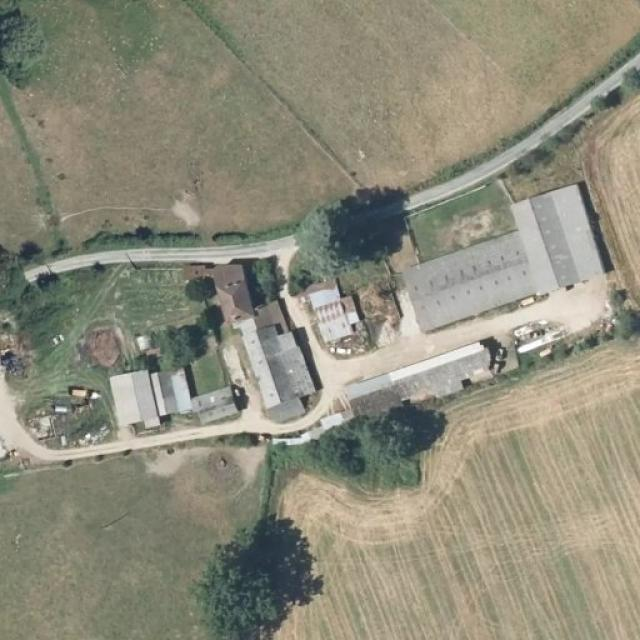ferme: (400, 172, 607, 330), (345, 326, 512, 416), (113, 360, 240, 419), (185, 258, 205, 272)
maison: (212, 248, 366, 420)
